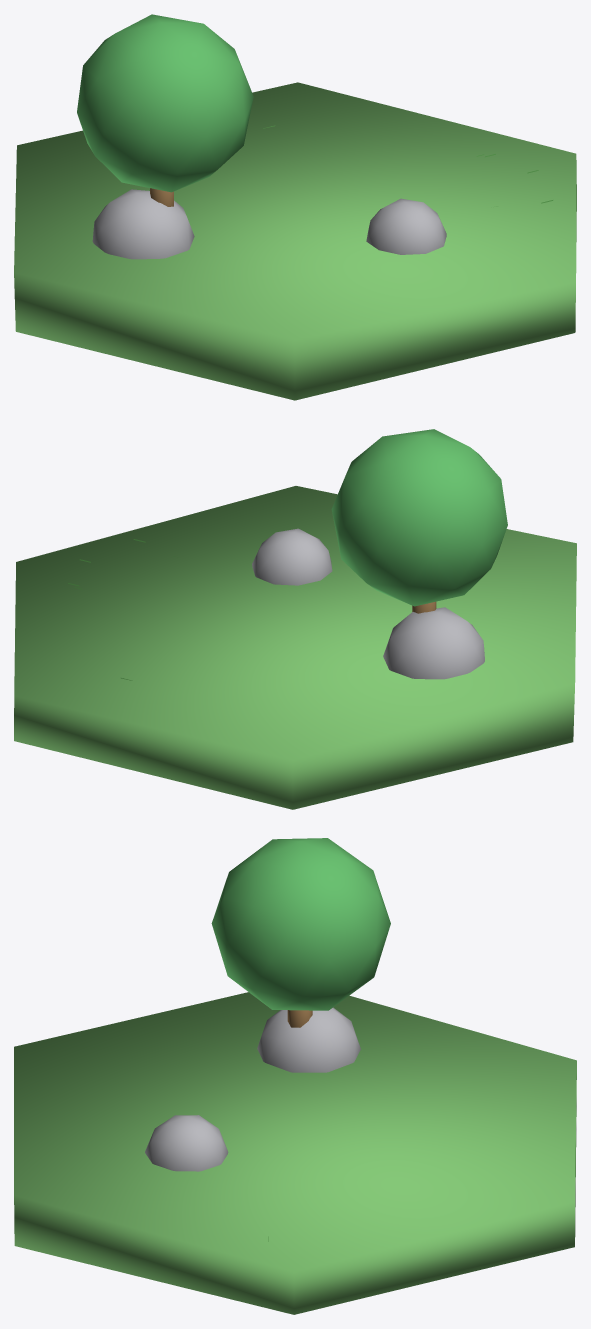
The model's file is grassland_v0.glb.
The picture shows the model from 3 angles, top to bottom: view 1: azimuth 30°, elevation 25°; view 2: azimuth 150°, elevation 25°; view 3: azimuth 270°, elevation 25°; orthographic projection.
Visible parts, largest first — view 1: grassland_tile_0.001, tree_crown_Icosphere.002, rock_Icosphere.010, rock_Icosphere.011; view 2: grassland_tile_0.001, tree_crown_Icosphere.002, rock_Icosphere.010, rock_Icosphere.011; view 3: grassland_tile_0.001, tree_crown_Icosphere.002, rock_Icosphere.010, rock_Icosphere.011.
Boxes of the visible parts, x1,y1,x2,y2 form: grassland_tile_0.001: (14,82,576,400); tree_crown_Icosphere.002: (77,14,253,192); rock_Icosphere.010: (92,189,194,259); rock_Icosphere.011: (366,198,446,254); grassland_tile_0.001: (14,486,576,809); tree_crown_Icosphere.002: (331,429,507,606); rock_Icosphere.010: (383,607,484,679); rock_Icosphere.011: (252,528,332,585); grassland_tile_0.001: (14,992,576,1314); tree_crown_Icosphere.002: (211,838,390,1010); rock_Icosphere.010: (257,1007,360,1072); rock_Icosphere.011: (145,1115,228,1171).
Size of the model in its own units: 1 by 0.4641 by 0.87.
